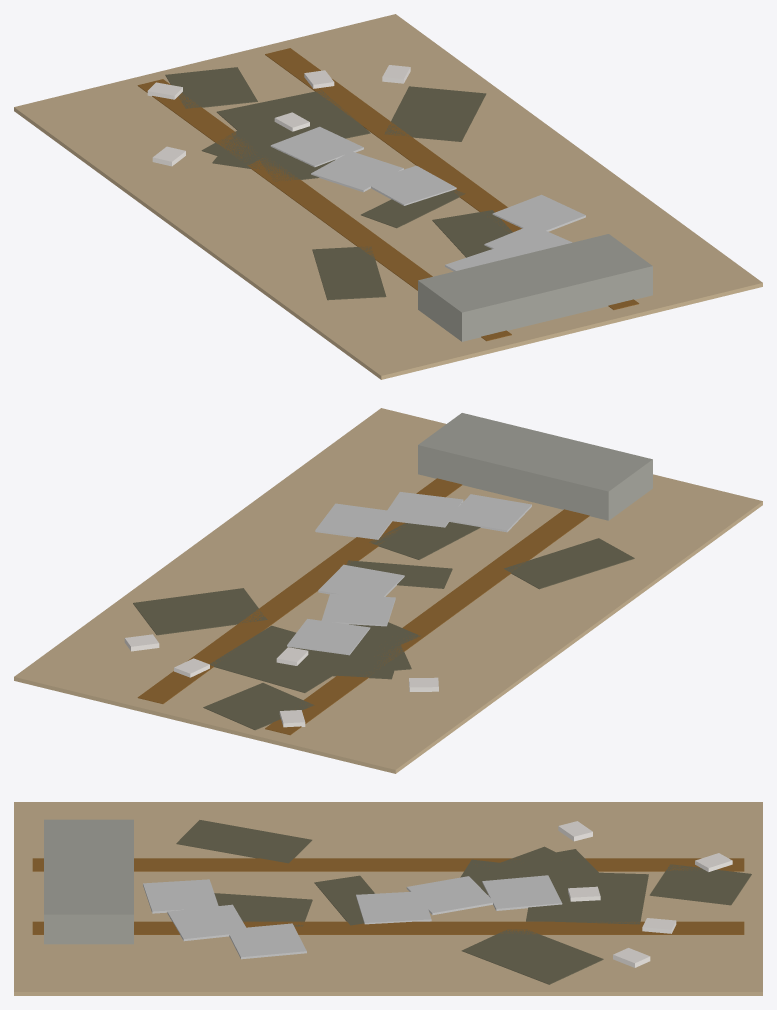
The model's file is SM_Solar_v3_Despejado_LOD0.fbx.
3 renders of one model, top to bottom at view 1: azimuth 30°, elevation 25°; view 2: azimuth 150°, elevation 25°; view 3: azimuth 270°, elevation 25°, orthographic.
Visible parts, largest first — view 1: SM_sagunto_vivo_v8_LOD0; view 2: SM_sagunto_vivo_v8_LOD0; view 3: SM_sagunto_vivo_v8_LOD0.
Boxes of the visible parts, <box> form: SM_sagunto_vivo_v8_LOD0: <box>14,14,762,379</box>; SM_sagunto_vivo_v8_LOD0: <box>14,408,762,773</box>; SM_sagunto_vivo_v8_LOD0: <box>14,802,762,995</box>.
Bounding box in the file's own units: 6 × 0.5 × 10.
